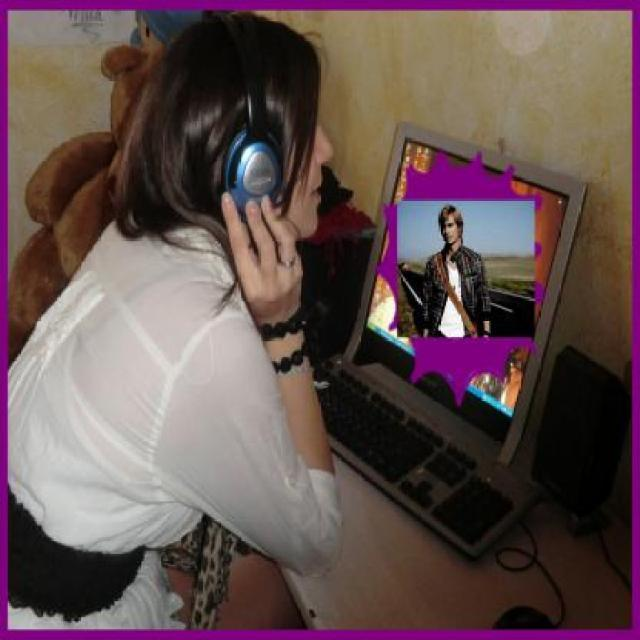earphone: (192, 0, 303, 230)
laptop_computer: (340, 109, 598, 558)
